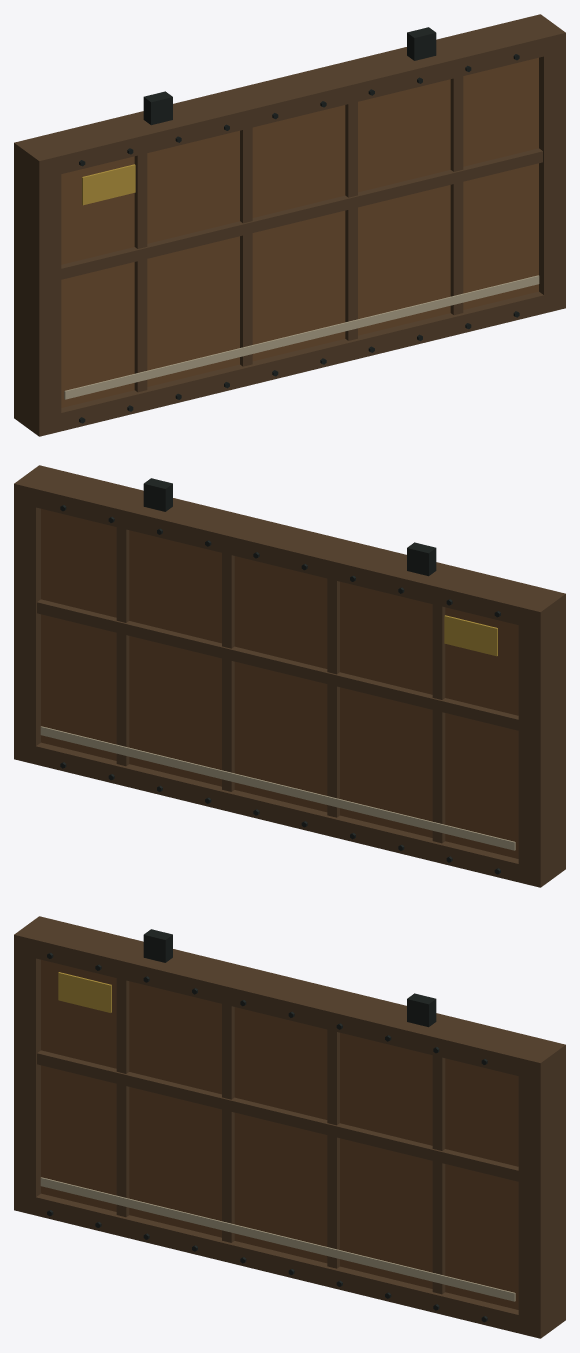
Rendered from valve_door.glb.
3 views of the same model, one above another, from view 1: azimuth 30°, elevation 25°; view 2: azimuth 150°, elevation 25°; view 3: azimuth 330°, elevation 25° (orthographic).
Visible parts, largest first — view 1: ValveDoor; view 2: ValveDoor; view 3: ValveDoor.
Part boxes in pixels (left/top/right/bottom): ValveDoor: left=14, top=14, right=565, bottom=436; ValveDoor: left=14, top=465, right=565, bottom=887; ValveDoor: left=14, top=916, right=565, bottom=1338.
Size of the model in its own units: 12 by 6.5 by 1.32.
